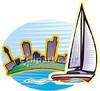boat: (46, 2, 98, 83)
